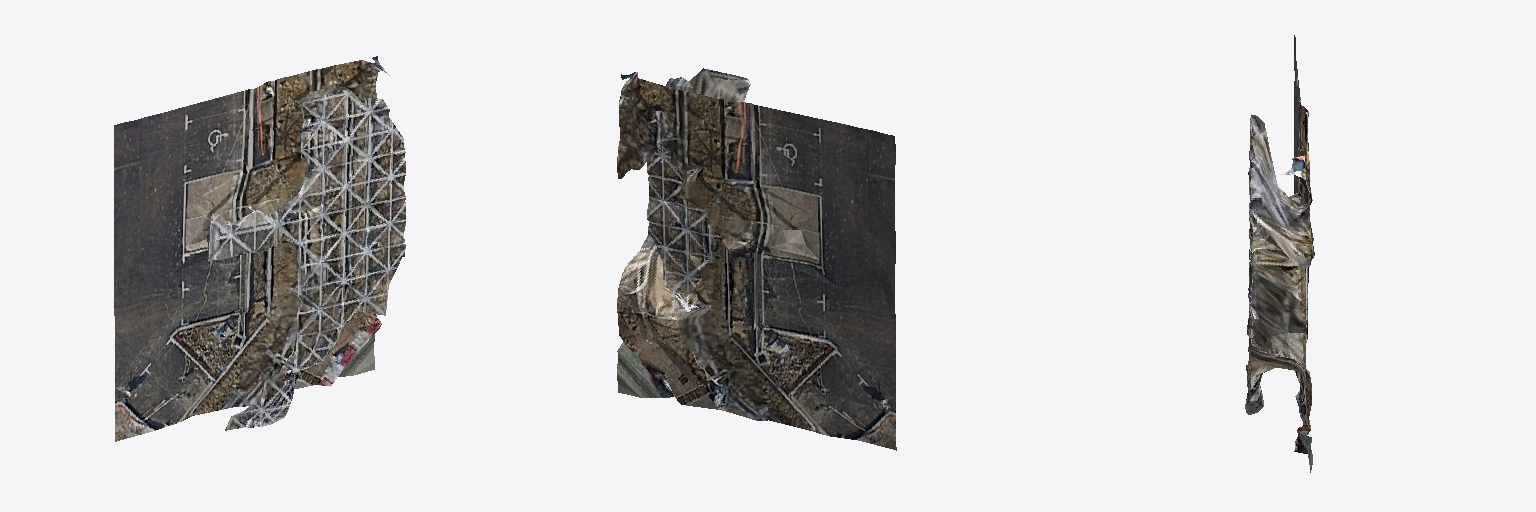
3 renders of one model, left to right at view 1: azimuth 30°, elevation 25°; view 2: azimuth 150°, elevation 25°; view 3: azimuth 270°, elevation 25°, orthographic.
Visible parts, largest first — view 1: obj_0; view 2: obj_0; view 3: obj_0.
Part boxes in pixels (bbox=[...]): obj_0: bbox=[114, 56, 405, 441]; obj_0: bbox=[617, 68, 896, 450]; obj_0: bbox=[1245, 35, 1314, 472].
Size of the model in its own units: 20.08 by 22.55 by 4.54.
Materials: 1 (1 with a texture image).